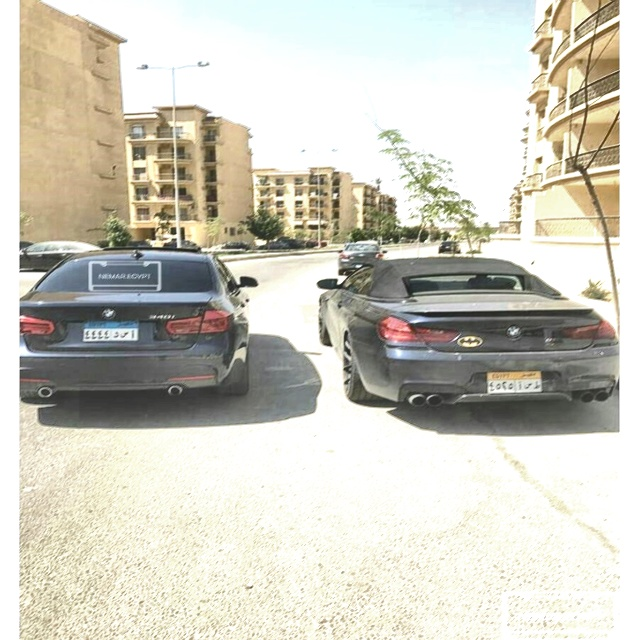License Plate: (485, 368, 545, 395), (80, 319, 142, 342)
